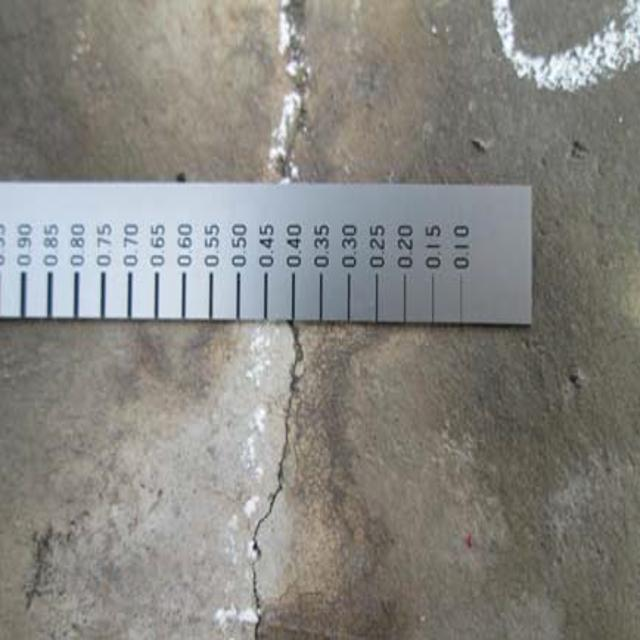crack: (236, 333, 317, 640), (266, 4, 327, 179)
